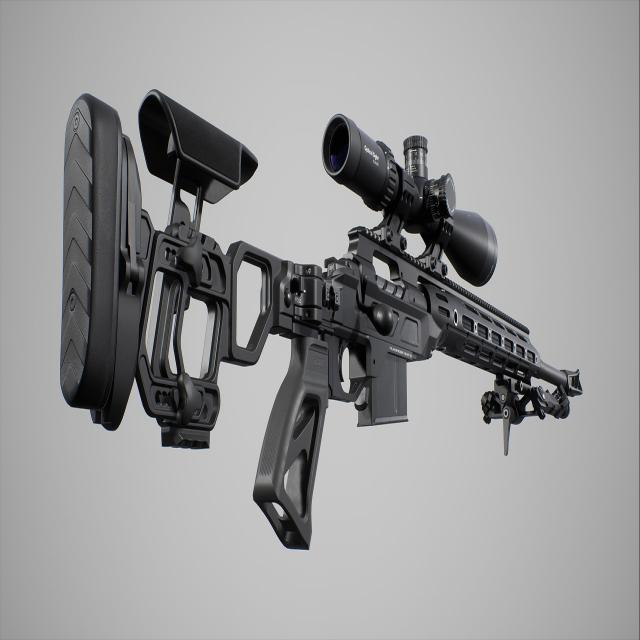Rifle: (60, 92, 582, 552)
